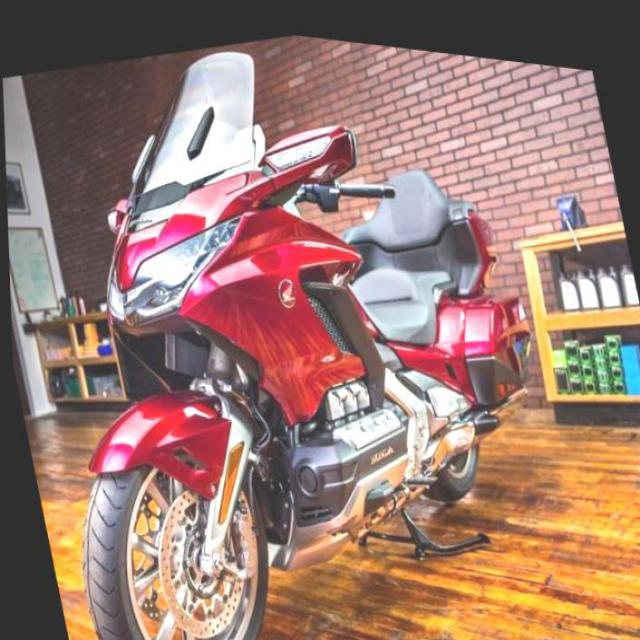Gold Wing: (0, 0, 596, 639)
